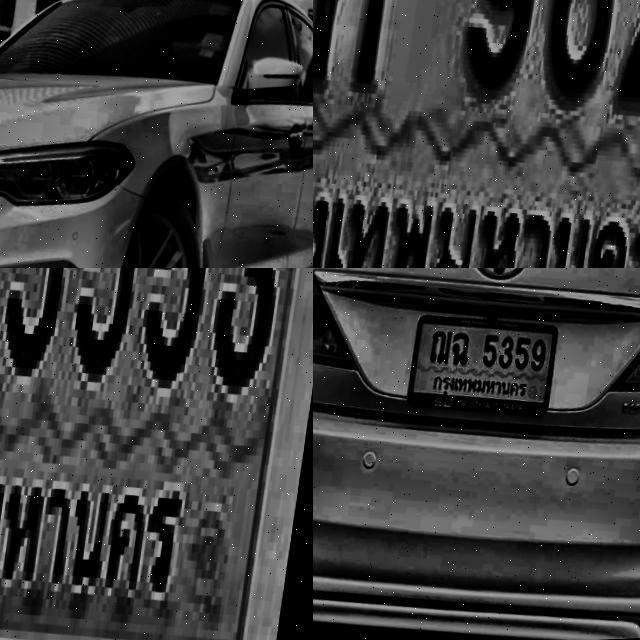license-plate: (0, 268, 313, 640), (313, 0, 640, 268), (405, 311, 561, 424)
